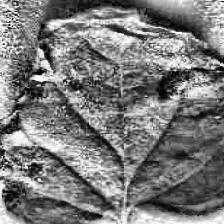disease: (0, 4, 224, 224)
